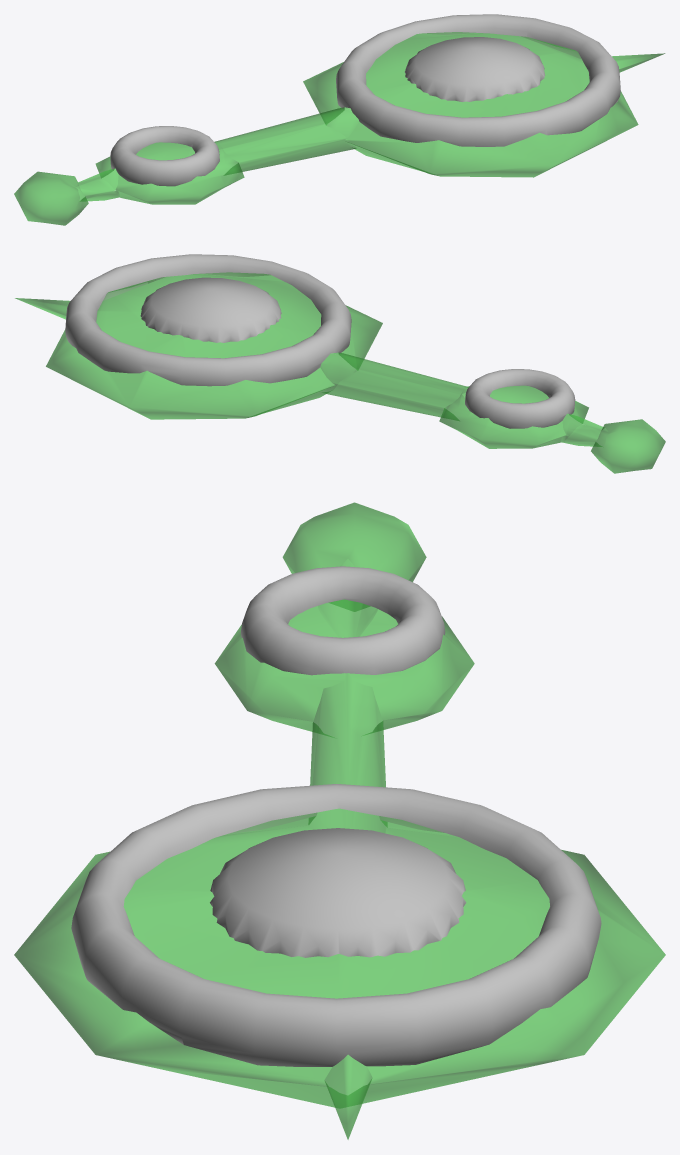
File: note1.fbx
3 views of the same model, one above another, from view 1: azimuth 30°, elevation 25°; view 2: azimuth 150°, elevation 25°; view 3: azimuth 270°, elevation 25° (orthographic). The views are drawn at different scales.
Parts seen in each view (by area): view 1: polySurface11; view 2: polySurface11; view 3: polySurface11.
Boxes of the visible parts, x1,y1,x2,y2 form: polySurface11: (14,14,665,225); polySurface11: (15,254,665,473); polySurface11: (14,502,665,1139).
Size of the model in its own units: 5.54 by 0.7532 by 2.52.
